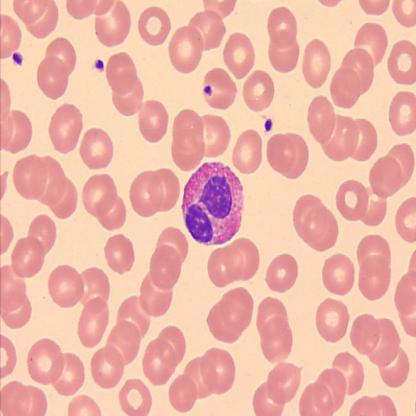Eosinophil: (183, 162, 244, 245)
